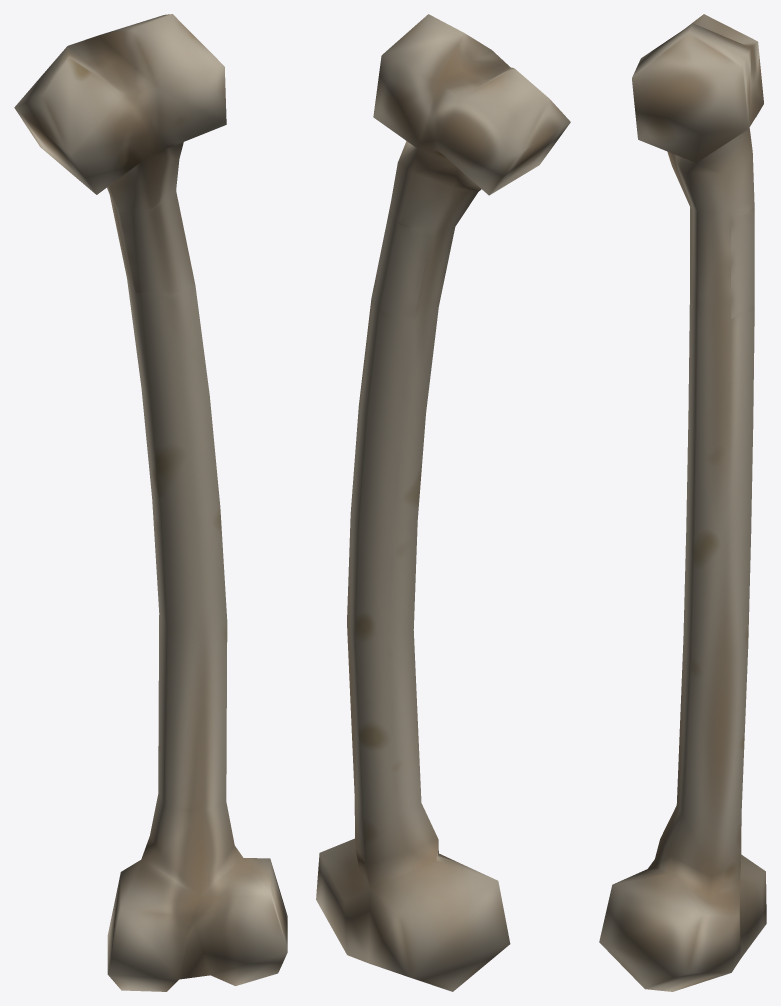
Rendered from Bone_Long.fbx.
3 views of the same model, side by side, from view 1: azimuth 30°, elevation 25°; view 2: azimuth 150°, elevation 25°; view 3: azimuth 270°, elevation 25° (orthographic). The views are drawn at different scales.
Parts seen in each view (by area): view 1: U_Bone_Long; view 2: U_Bone_Long; view 3: U_Bone_Long.
Part boxes in pixels (x1,y1,x2,y2): U_Bone_Long: (14,14,287,991); U_Bone_Long: (316,14,570,991); U_Bone_Long: (599,14,766,991).
Size of the model in its own units: 41.27 by 160 by 26.04.
1 material, 1 textured.
